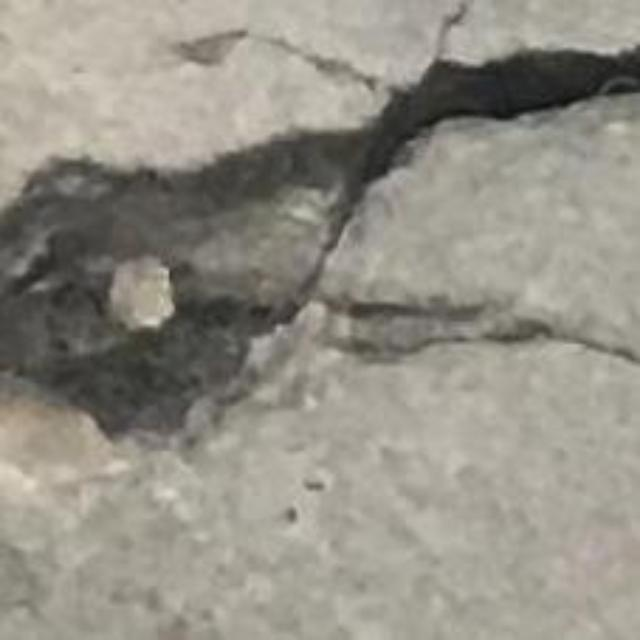crack: (0, 0, 639, 453)
